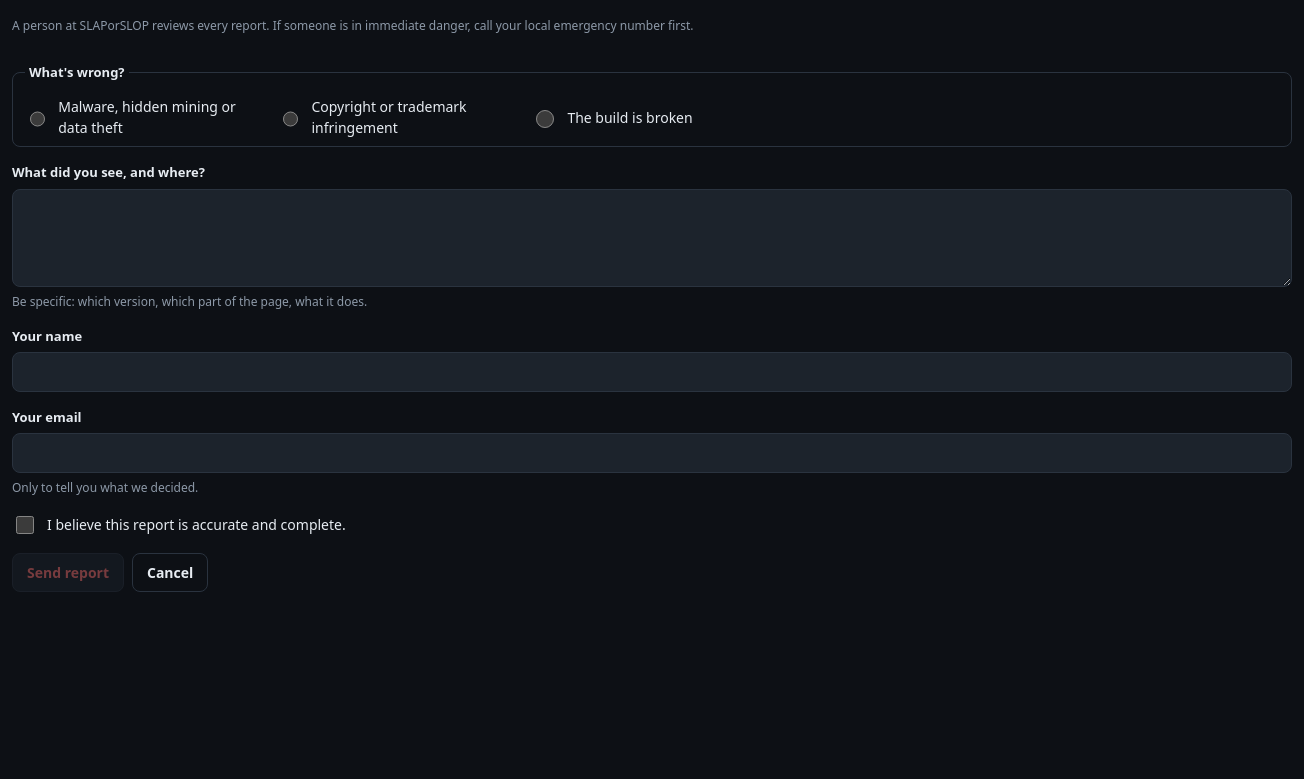
Test case: ReportForm › collects a copyright notice's details
Expected: the text "Copyright notice" is not shown
Click the radio button labelled "Copyright or trademark infringement": (291, 119) [283,110,298,128]
(page scrolled)
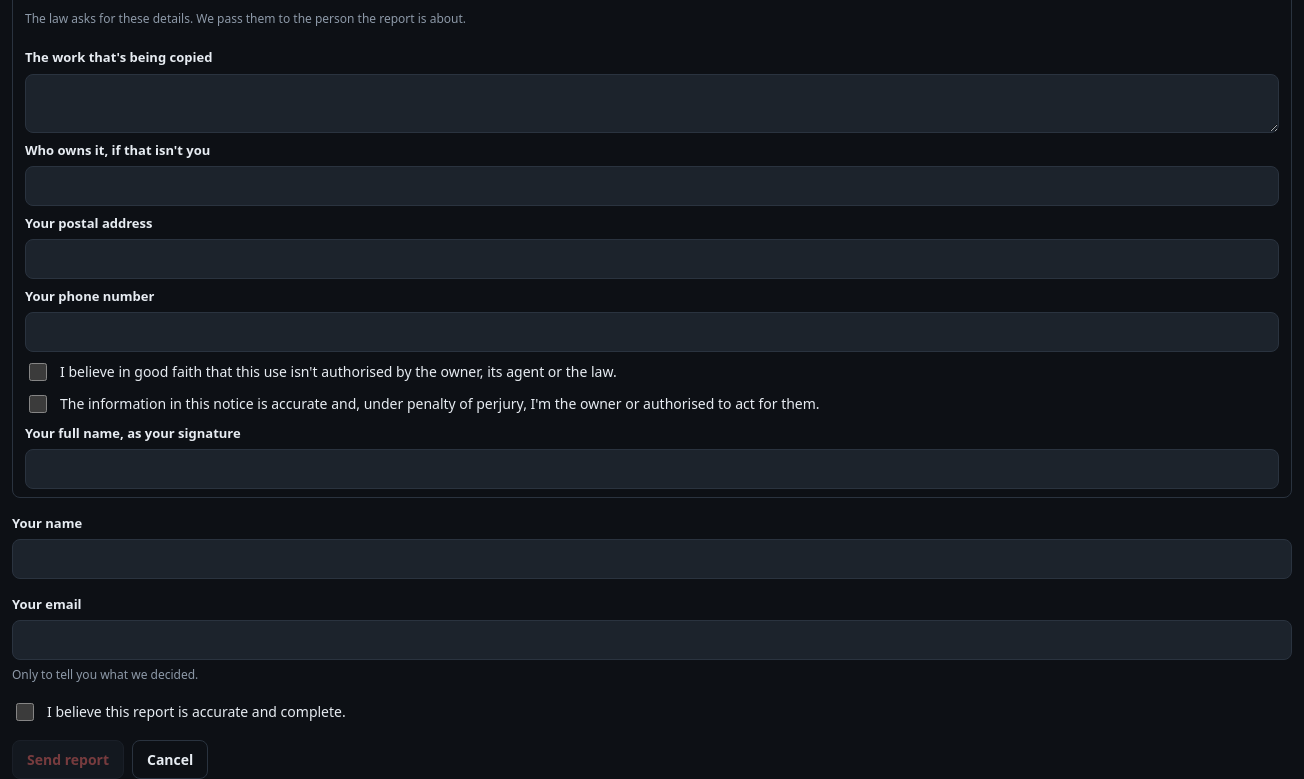
Expected: the checkbox labelled "penalty of perjury" is shown, [29,395,47,413]
Expected: the field labelled "Your full name, as your signature" is shown, [25,449,1279,489]
